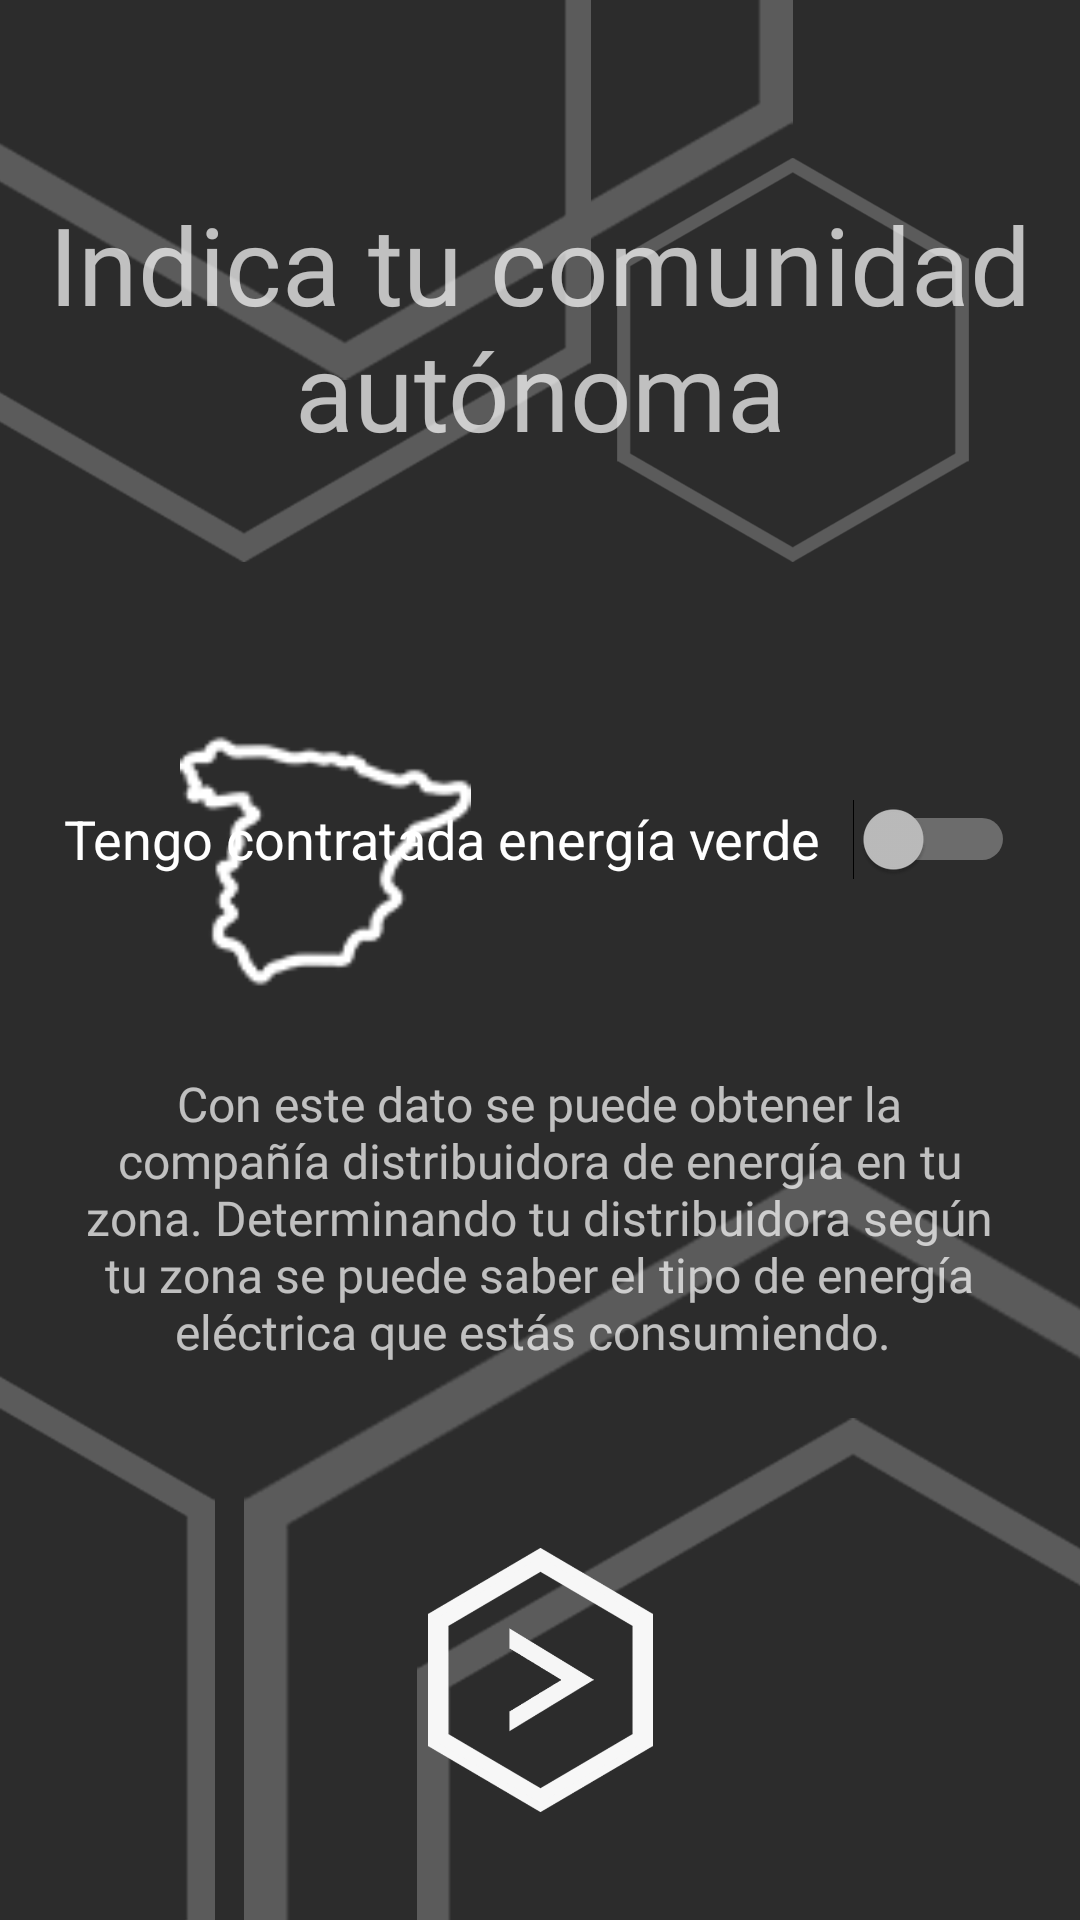

Icons on this 1080x1920 Android screen, each with its box as (x1, y1, x2, y2):
continuar: (428, 1548, 653, 1812)
